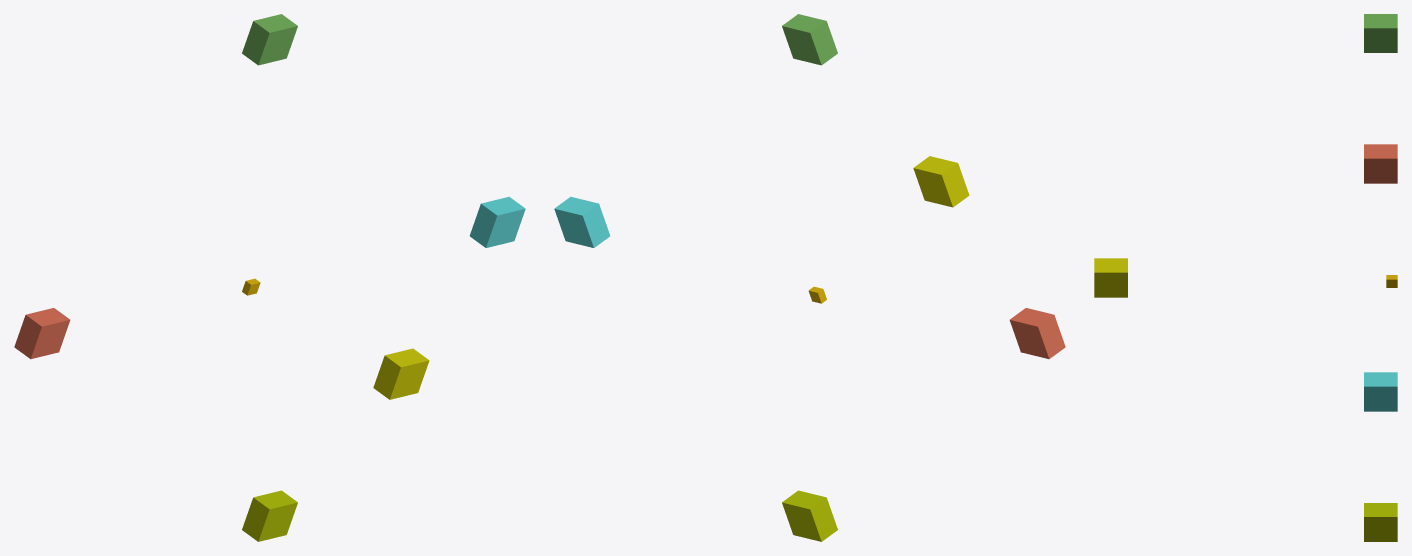
Rendered from rhombohedrons.gltf.
The picture shows the model from 3 angles, left to right: view 1: azimuth 30°, elevation 25°; view 2: azimuth 150°, elevation 25°; view 3: azimuth 270°, elevation 25°; orthographic projection. The views are drawn at different scales.
Bounding box in the file's own units: 4.35 × 4.25 × 2.25.
